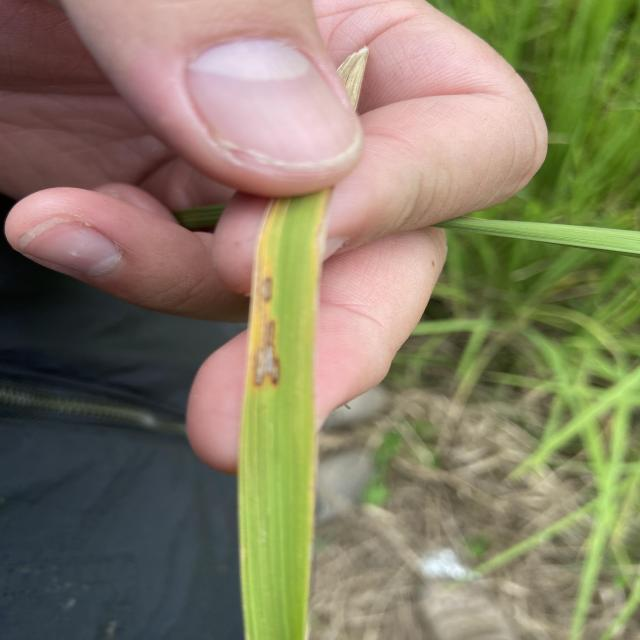Dao on: (252, 317, 283, 389), (260, 276, 274, 303)
